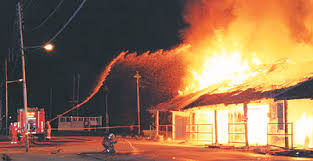fire: (194, 50, 263, 92)
